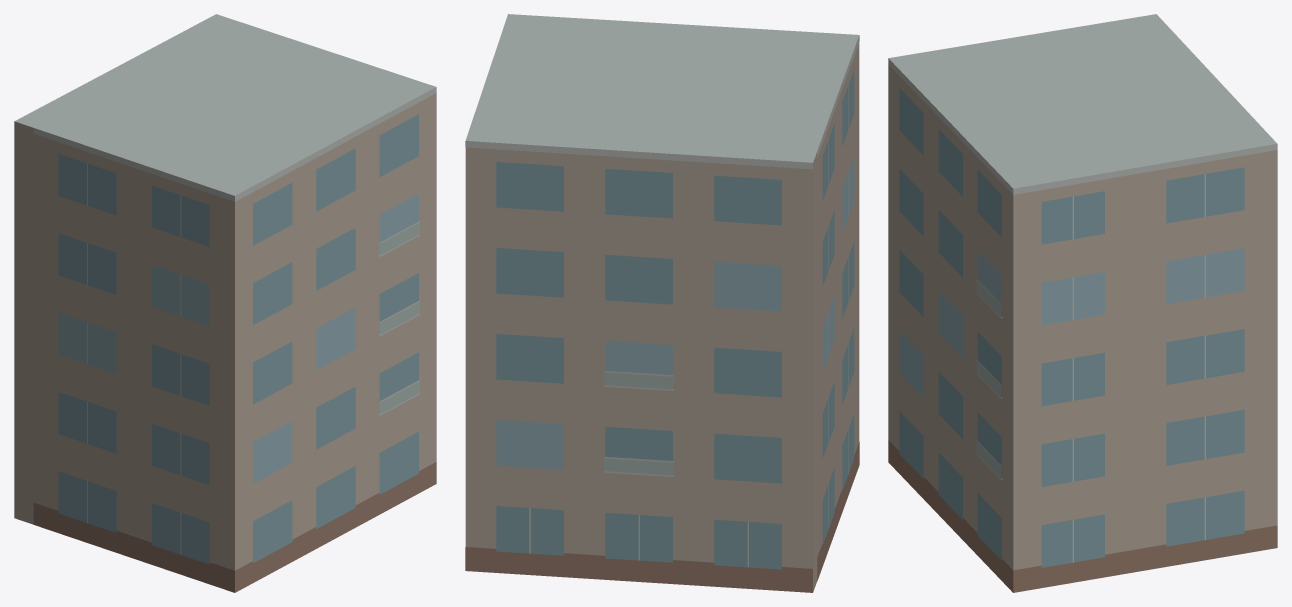
The model's file is survey-upis-32859594.glb.
3 renders of one model, left to right at view 1: azimuth 30°, elevation 25°; view 2: azimuth 150°, elevation 25°; view 3: azimuth 270°, elevation 25°, orthographic. The views are drawn at different scales.
Visible parts, largest first — view 1: survey-upis-32859594.tmp; view 2: survey-upis-32859594.tmp; view 3: survey-upis-32859594.tmp.
Part boxes in pixels (bbox=[...]): survey-upis-32859594.tmp: bbox=[14, 14, 436, 592]; survey-upis-32859594.tmp: bbox=[465, 14, 859, 592]; survey-upis-32859594.tmp: bbox=[888, 14, 1277, 592].
Size of the model in its own units: 14.9 by 16.05 by 14.02.
